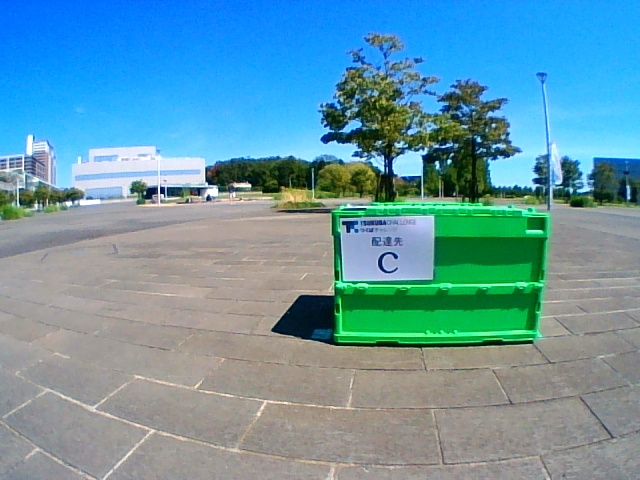green_box: (332, 203, 549, 344)
tag_c: (345, 219, 432, 279)
